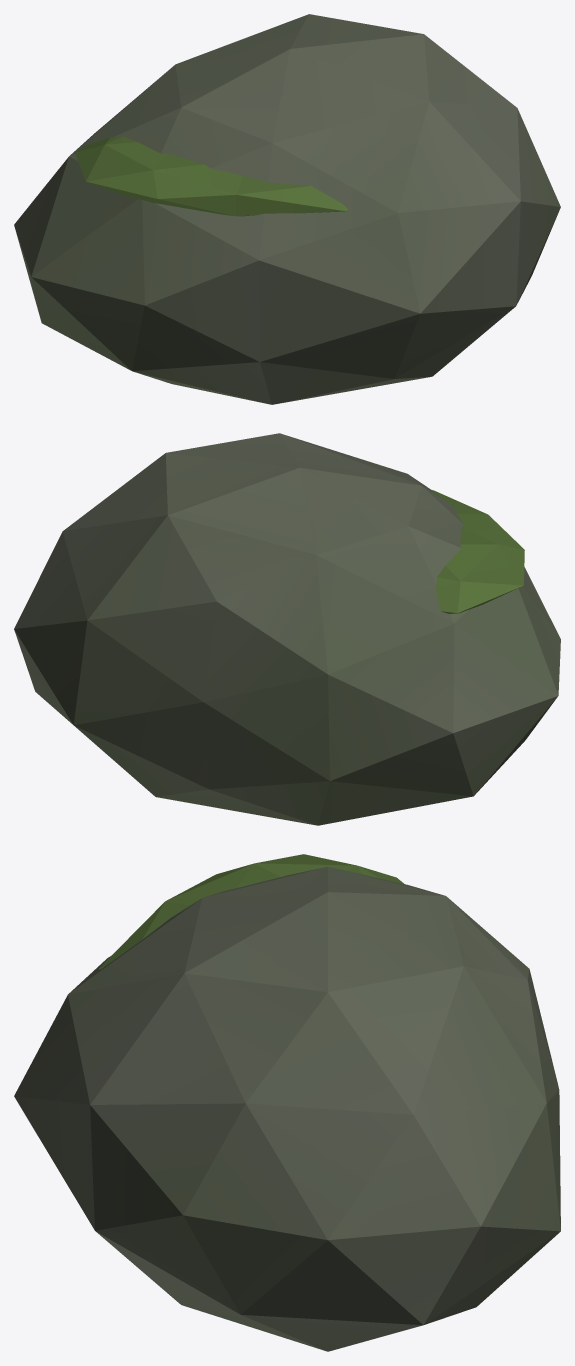
Rendered from jungle-rock.glb.
The picture shows the model from 3 angles, top to bottom: view 1: azimuth 30°, elevation 25°; view 2: azimuth 150°, elevation 25°; view 3: azimuth 270°, elevation 25°; orthographic projection. The views are drawn at different scales.
Parts seen in each view (by area): view 1: Влажный валун со мхом; view 2: Влажный валун со мхом; view 3: Влажный валун со мхом.
Part boxes in pixels (x1,y1,x2,y2): Влажный валун со мхом: (14,14,560,404); Влажный валун со мхом: (14,433,560,825); Влажный валун со мхом: (14,854,560,1351).
Bounding box in the file's own units: 4.12 × 2.6 × 3.21.
